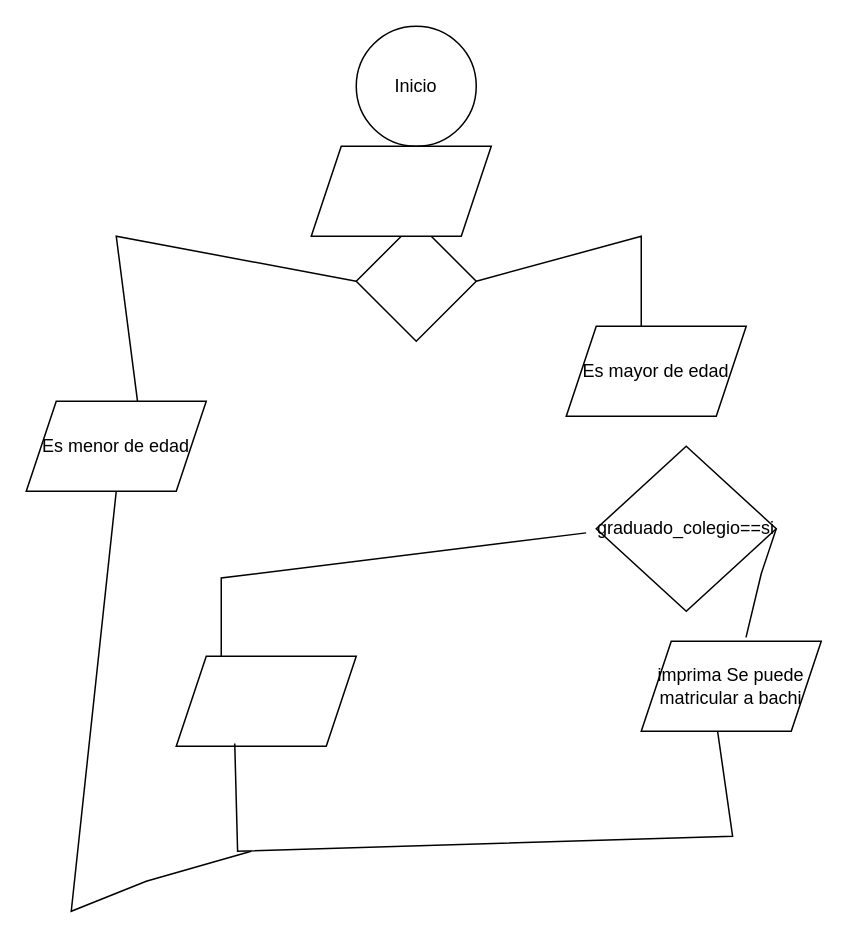
Some shapes in this 848 by 939 pixel diagram are drawn without their labels. The box of each missing label's shape, as (x1, y1, x2, y2) in pixels:
Digite edad, esta_graduado: (310, 145, 491, 236)
edad=>18: (355, 220, 476, 341)
imprima Se puede matricular a un tecnico: (175, 655, 356, 746)
